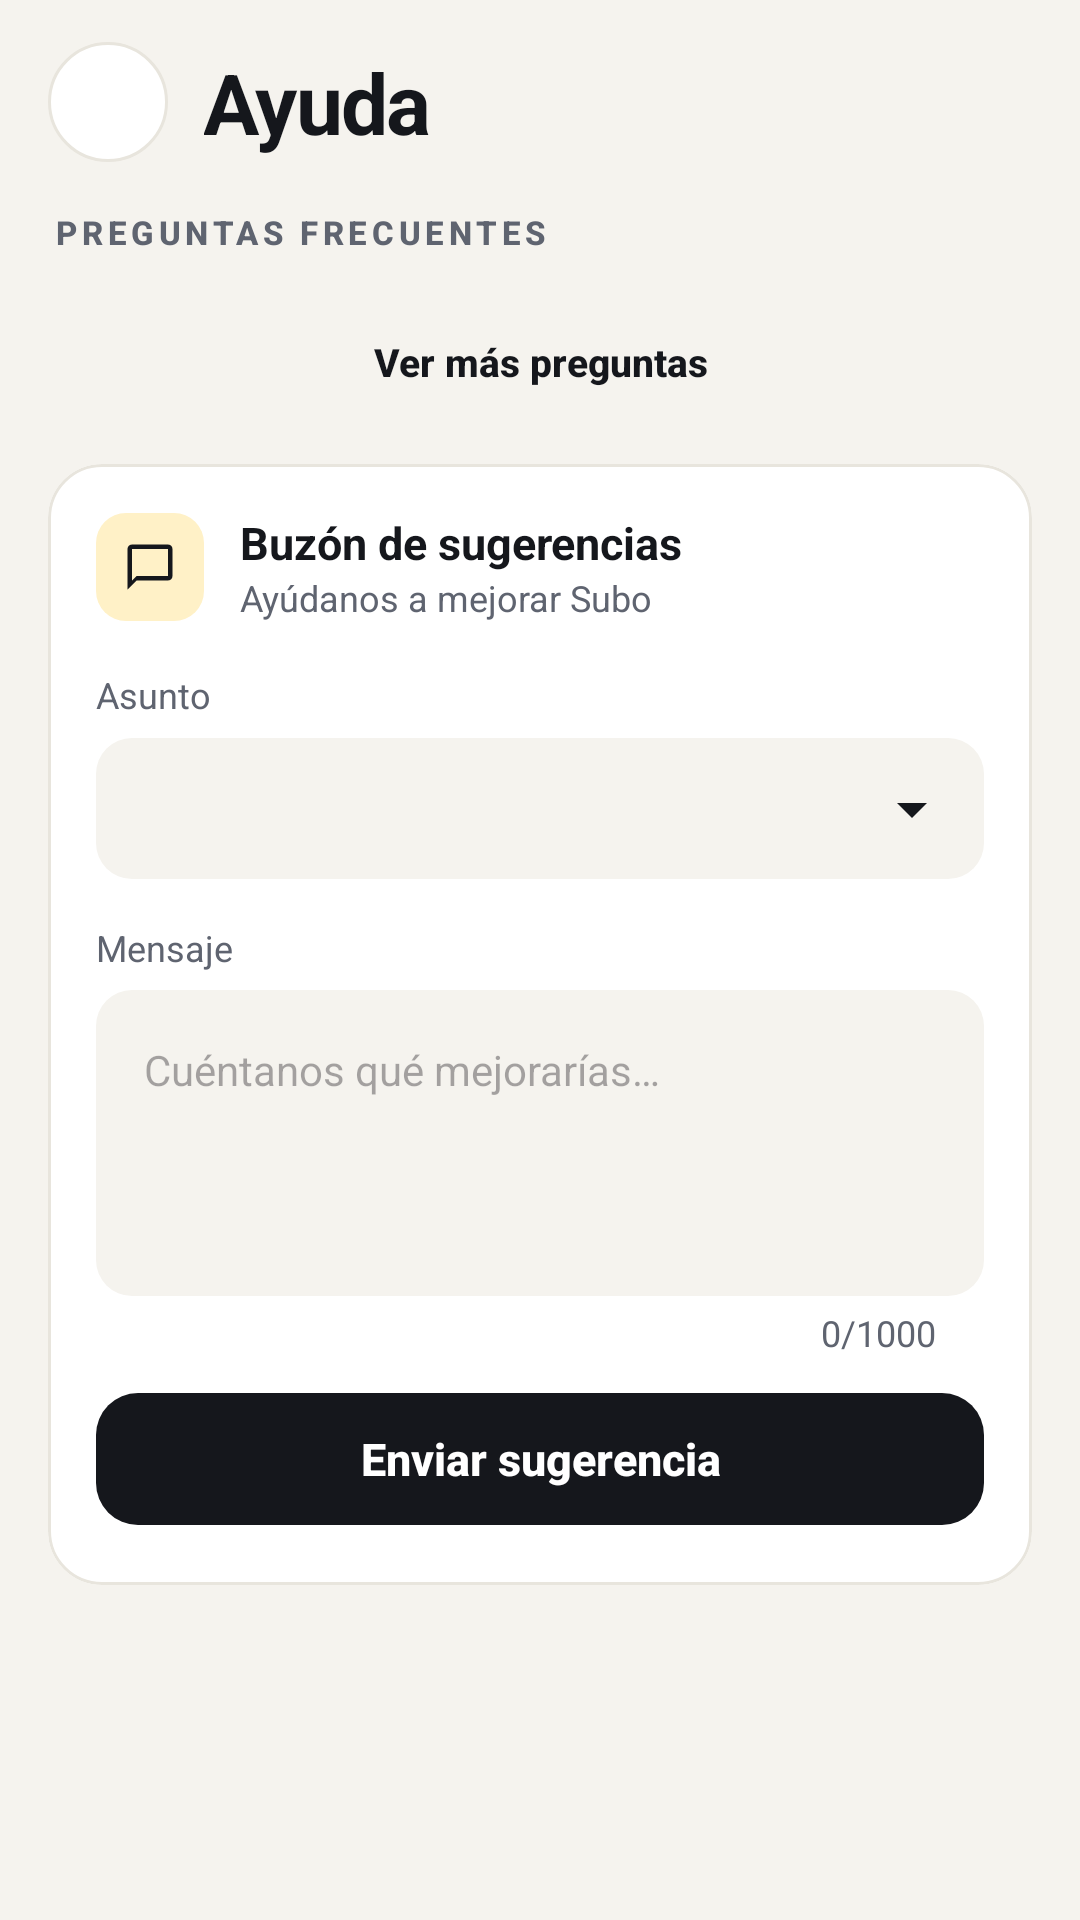

Point at icon controls on the screen. Image size 1080w x 1920h, points as point (x, y).
perfil chat: point (150, 567)
